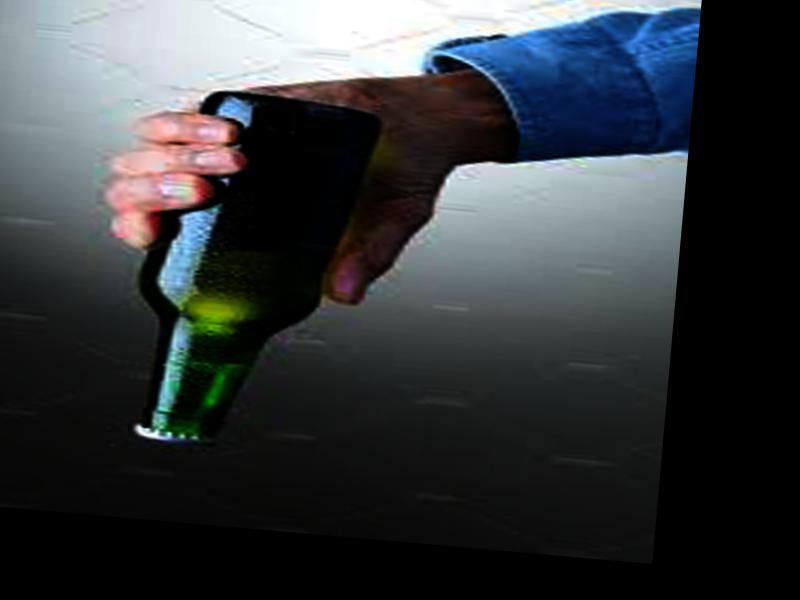Beer: (115, 86, 385, 454)
